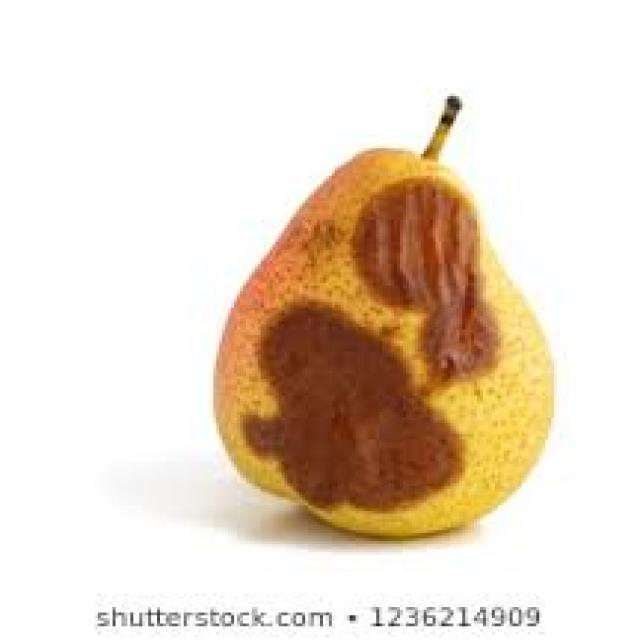organic waste: (207, 91, 554, 530)
